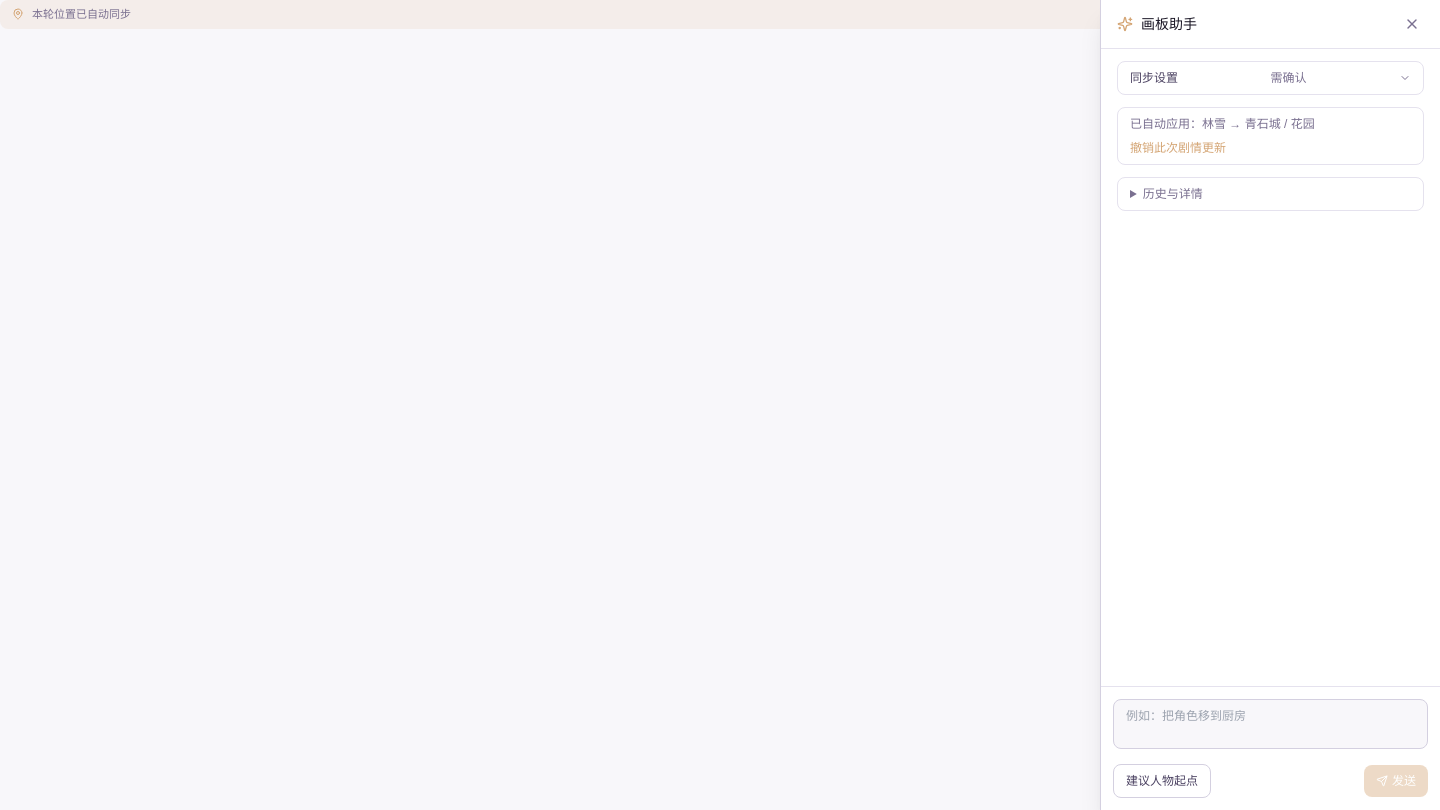
it: 空间阶段 4：自动策略交互 › 自动成功通知没有跳转，助手内仍可撤销，失败保留已应用状态
This screenshot has width=1440, height=810.
Check: the text "本轮位置已自动同步" is shown, box [32,6,131,22]
Check: the text "已自动应用：林雪 → 青石城 / 花园" is shown, box [1130,117,1315,131]
Click the button "撤销此次剧情更新" at (1178, 148), box [1130,140,1226,156]
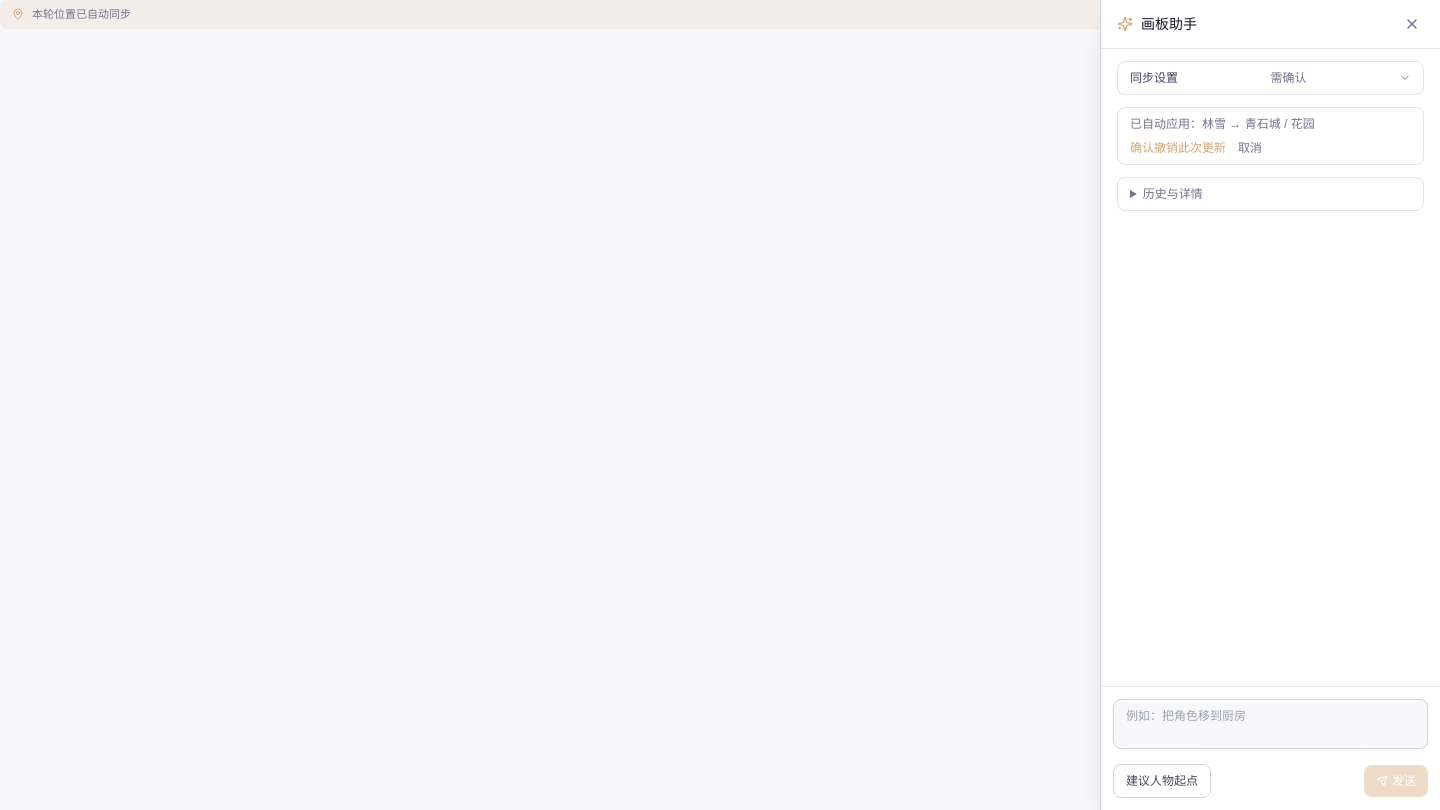
Click the button "确认撤销此次更新" at (1178, 148), box [1130,140,1226,156]
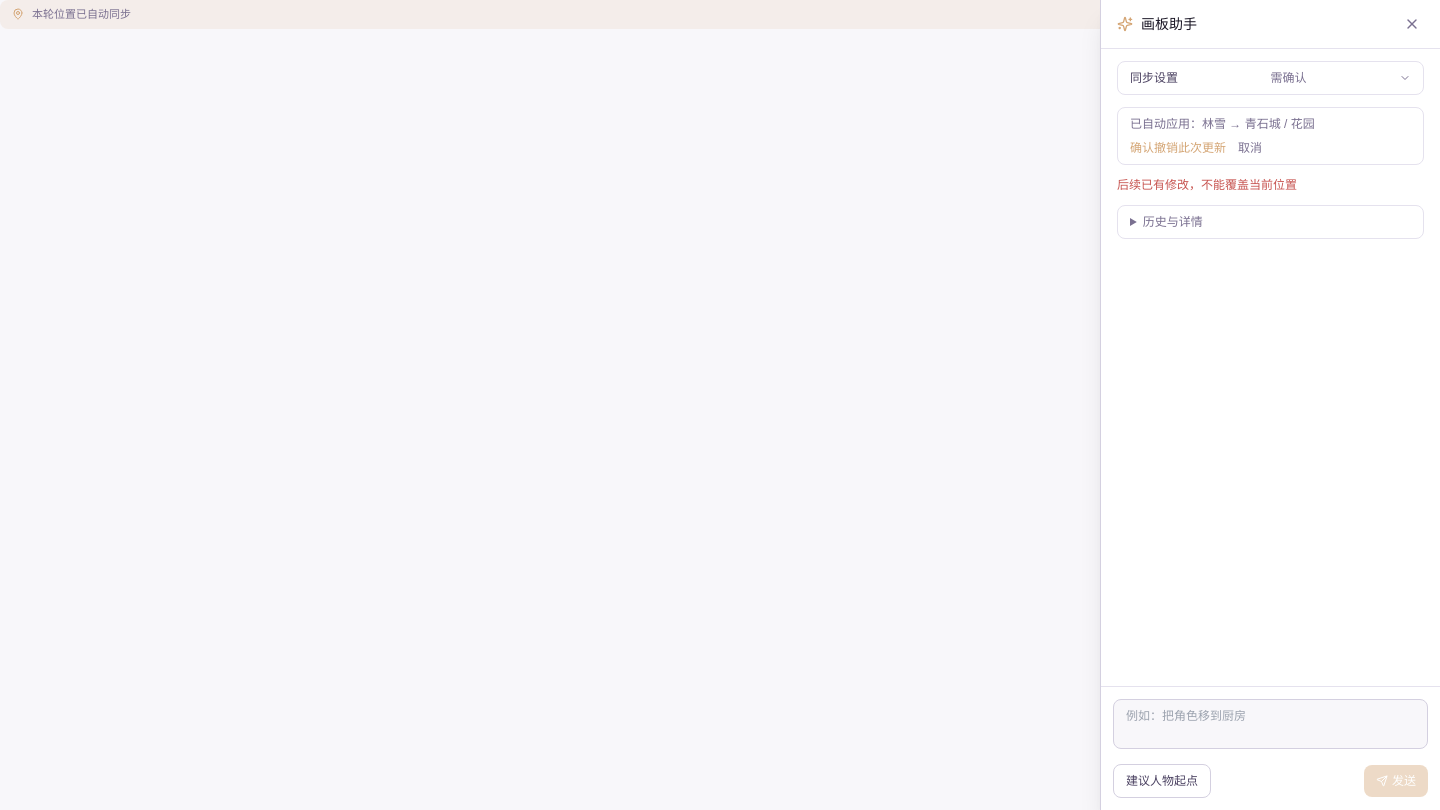
Check: the text "已自动应用：林雪 → 青石城 / 花园" is shown, box [1130,117,1315,131]
Check: the message "后续已有修改，不能覆盖当前位置" is shown, box [1117,178,1297,192]
